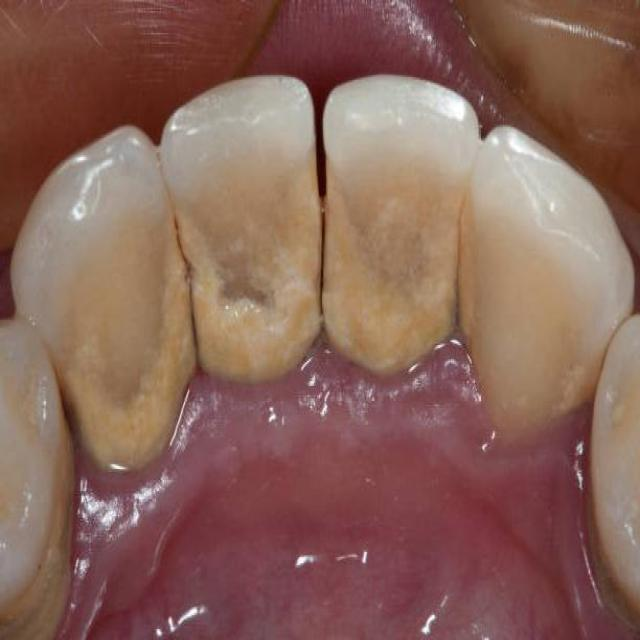calculus: (41, 128, 202, 474), (162, 109, 322, 404), (324, 132, 462, 400), (2, 410, 76, 637)
